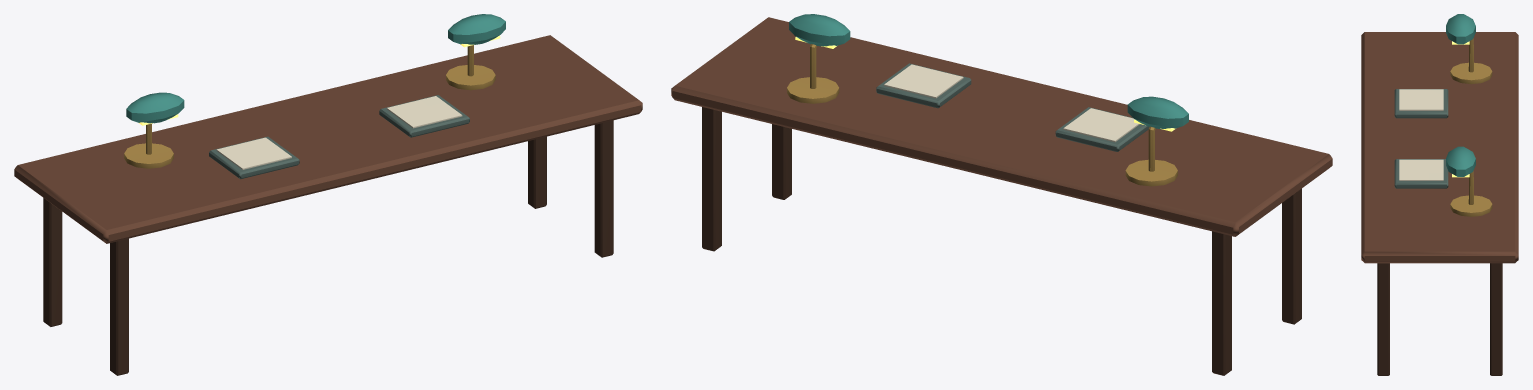
File: table_reading.glb
The picture shows the model from 3 angles, left to right: view 1: azimuth 30°, elevation 25°; view 2: azimuth 150°, elevation 25°; view 3: azimuth 270°, elevation 25°; orthographic projection. The views are drawn at different scales.
Parts seen in each view (by area): view 1: table_reading; view 2: table_reading; view 3: table_reading.
Part boxes in pixels (x1=…): table_reading: x1=14, y1=14, x2=642, y2=375; table_reading: x1=671, y1=14, x2=1332, y2=375; table_reading: x1=1361, y1=14, x2=1518, y2=375.
Bounding box in the file's own units: 2.85 × 1.13 × 0.85.
